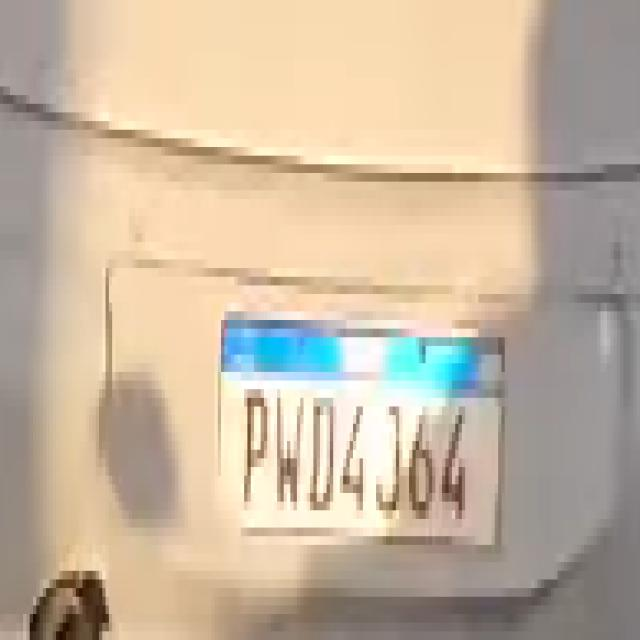Placa_mercosul_carro: (215, 312, 506, 551)
